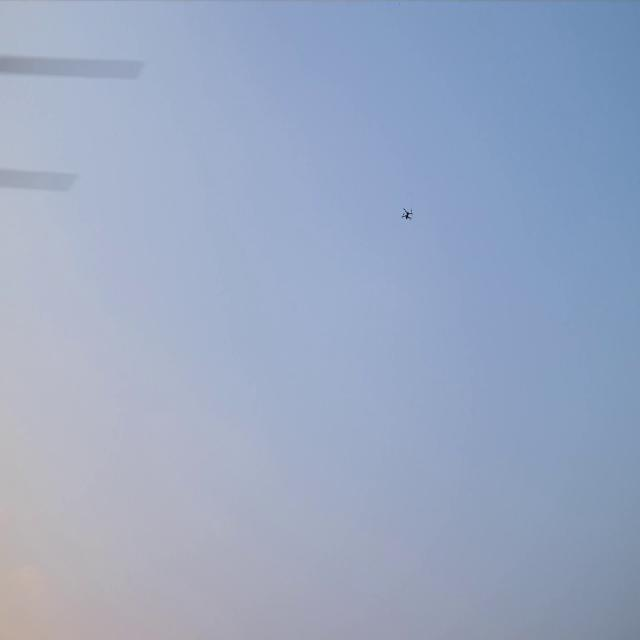UAV: (403, 210, 412, 219)
